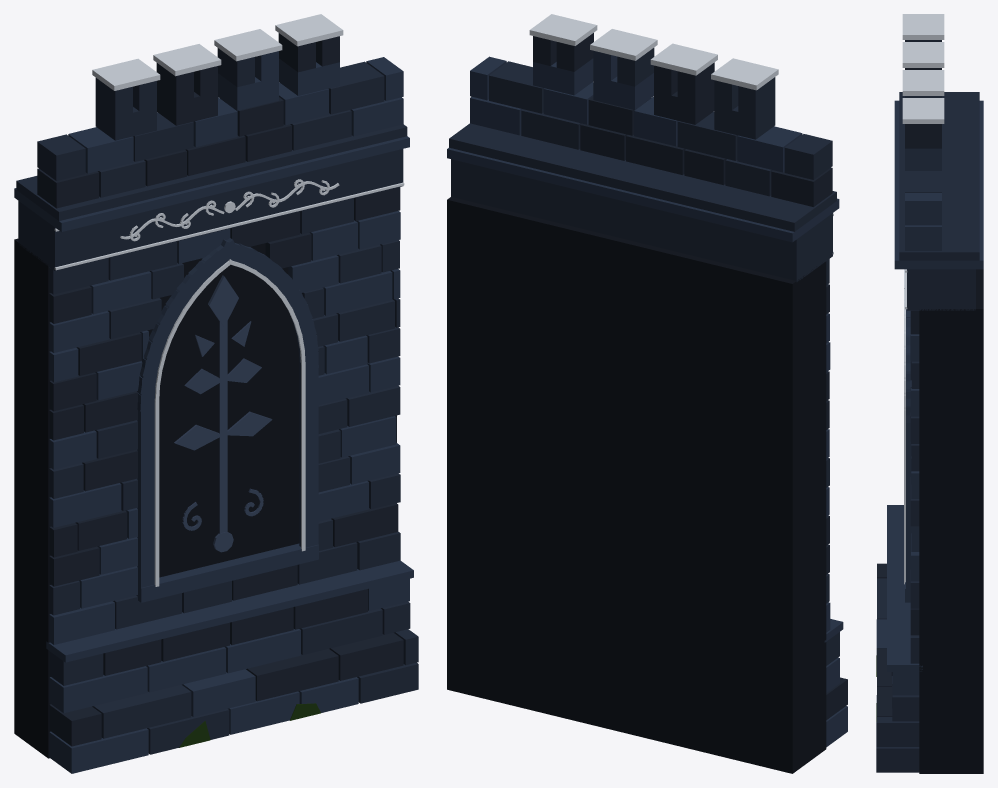
The model's file is Rempart_P2_Travee_B.fbx.
The picture shows the model from 3 angles, left to right: view 1: azimuth 30°, elevation 25°; view 2: azimuth 150°, elevation 25°; view 3: azimuth 270°, elevation 25°; orthographic projection. The views are drawn at different scales.
Visible parts, largest first — view 1: P2_Travee_B_PierreB, P2_Travee_B_PierreA, P2_Travee_B_Joint, P2_Travee_B_PierreC, P2_Travee_B_Argent, P2_Travee_B_Gravure, P2_Travee_B_Mousse; view 2: P2_Travee_B_Joint, P2_Travee_B_PierreA, P2_Travee_B_PierreB, P2_Travee_B_PierreC, P2_Travee_B_Argent; view 3: P2_Travee_B_Joint, P2_Travee_B_PierreA, P2_Travee_B_PierreB, P2_Travee_B_Argent, P2_Travee_B_PierreC.
Boxes of the visible parts, bbox=[...] form: P2_Travee_B_PierreB: bbox=[14, 51, 413, 773]; P2_Travee_B_PierreA: bbox=[16, 48, 418, 754]; P2_Travee_B_Joint: bbox=[14, 238, 396, 758]; P2_Travee_B_PierreC: bbox=[37, 33, 403, 746]; P2_Travee_B_Argent: bbox=[54, 14, 404, 586]; P2_Travee_B_Gravure: bbox=[174, 275, 272, 552]; P2_Travee_B_Mousse: bbox=[179, 703, 320, 747]; P2_Travee_B_Joint: bbox=[447, 197, 826, 773]; P2_Travee_B_PierreA: bbox=[449, 48, 839, 665]; P2_Travee_B_PierreB: bbox=[447, 50, 847, 747]; P2_Travee_B_PierreC: bbox=[533, 33, 847, 719]; P2_Travee_B_Argent: bbox=[529, 14, 833, 254]; P2_Travee_B_Joint: bbox=[919, 269, 983, 773]; P2_Travee_B_PierreA: bbox=[876, 40, 979, 772]; P2_Travee_B_PierreB: bbox=[876, 96, 983, 716]; P2_Travee_B_Argent: bbox=[902, 14, 944, 584]; P2_Travee_B_PierreC: bbox=[877, 68, 941, 716].
Bounding box in the file's own units: 20 × 36.48 × 5.66.
